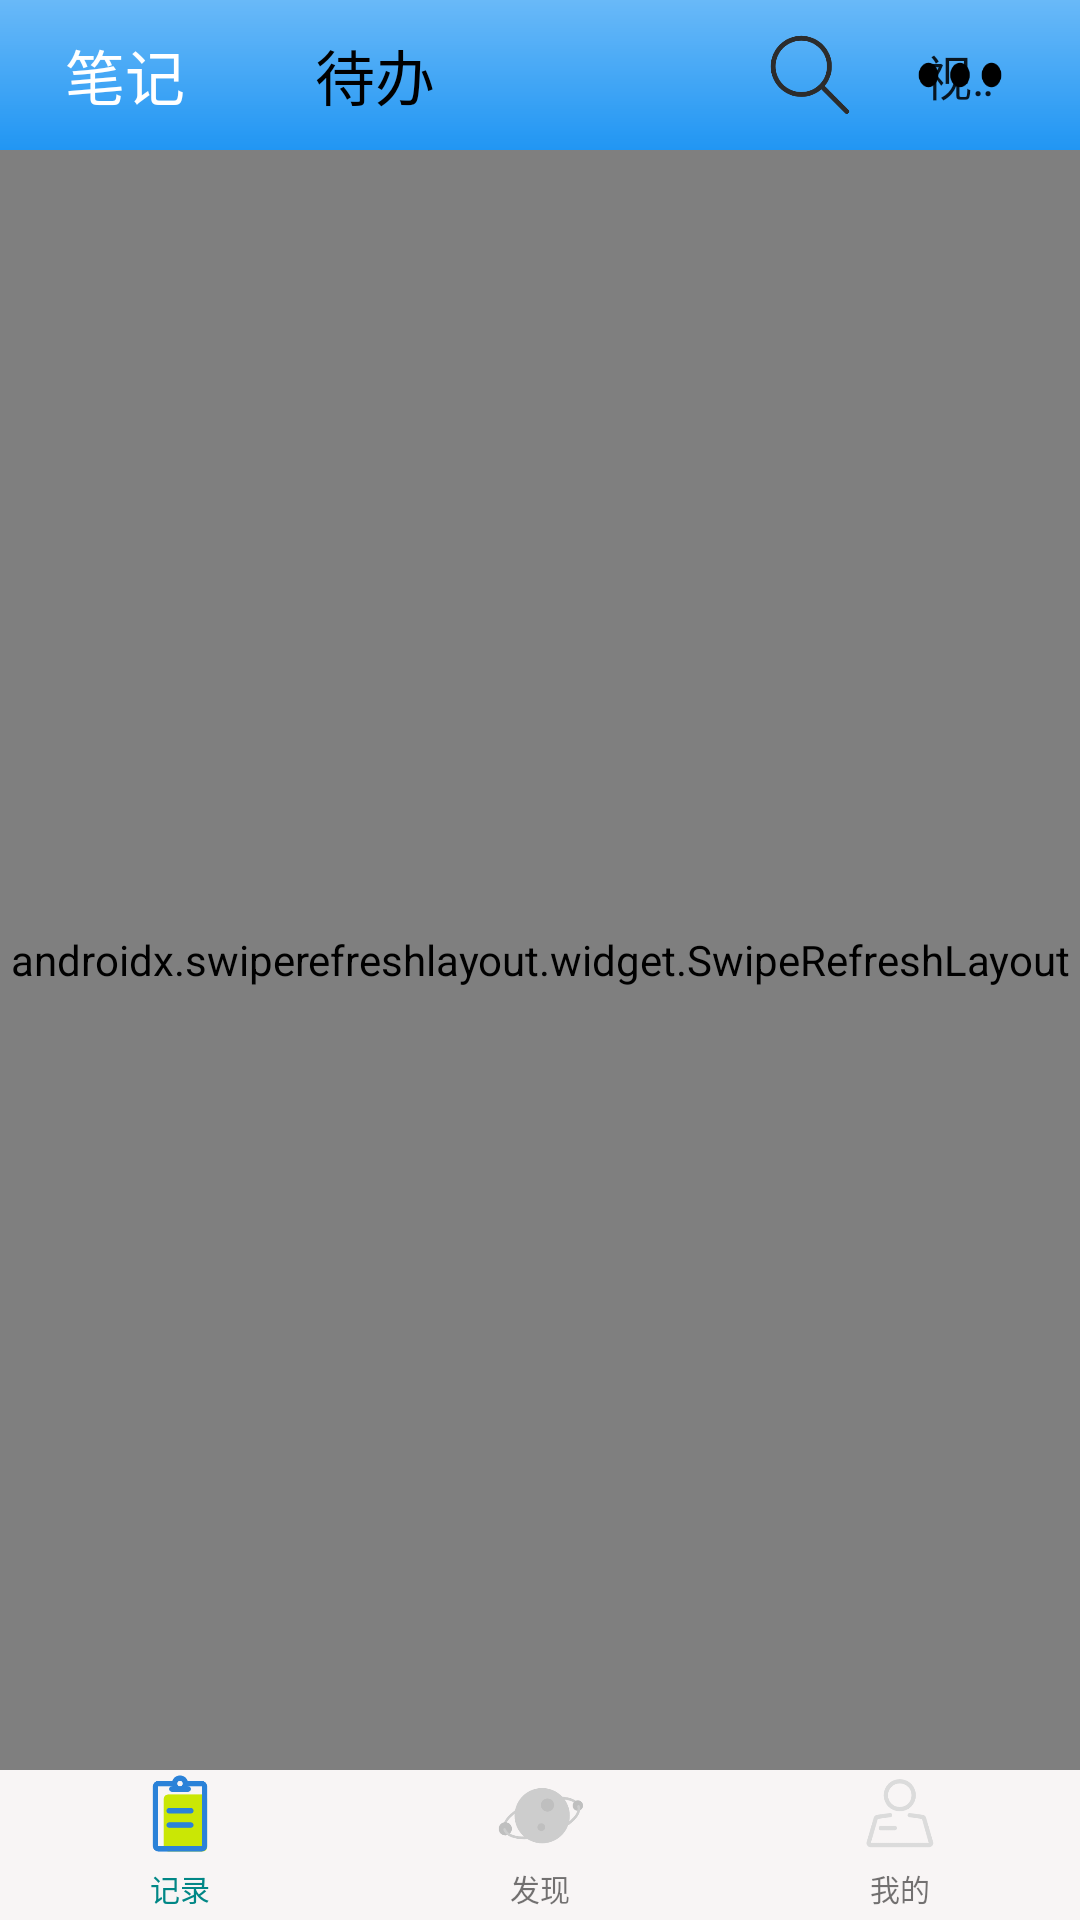

Screen size 1080w x 1920h. Icon name, then its center in pixels as [x,y]:
search: [810,75]
